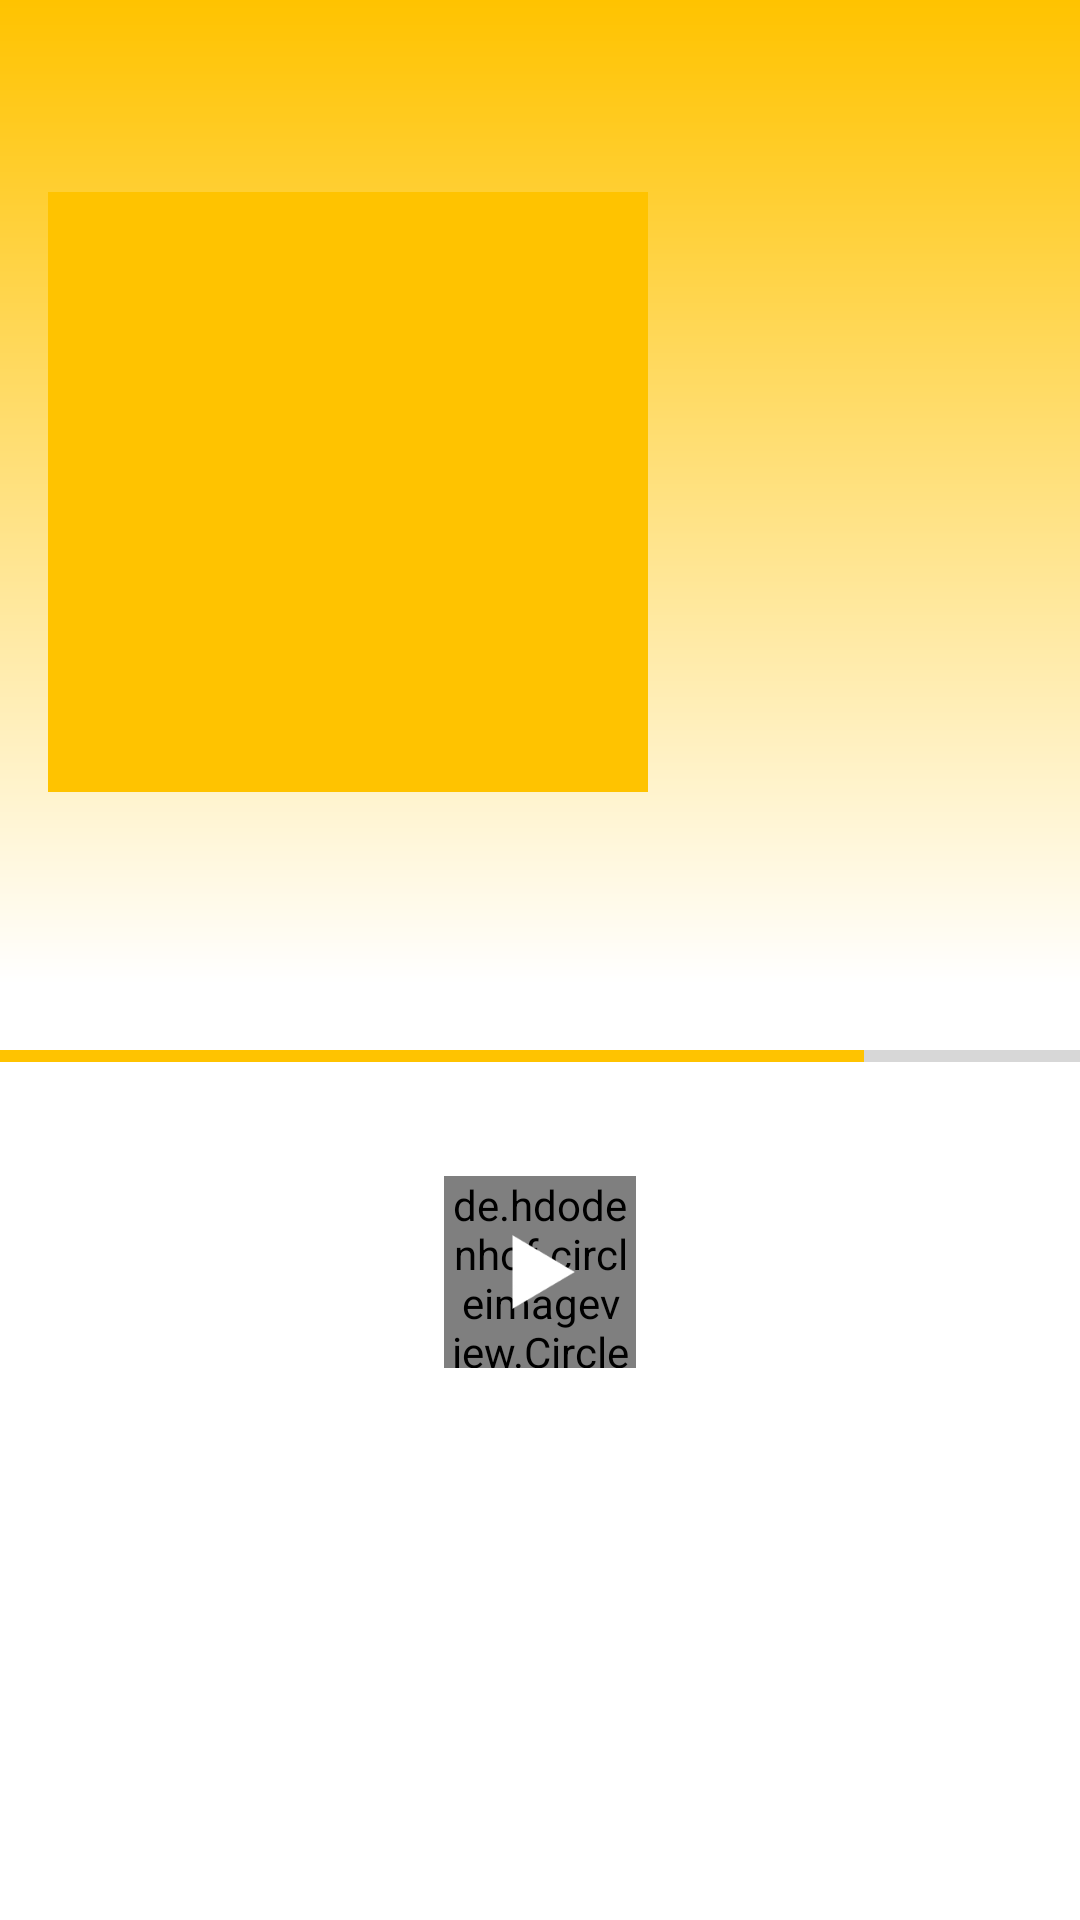

Screen size 1080px x 1920px. Icon name, then its center in pixels as (x,y):
play: (538,1277)
